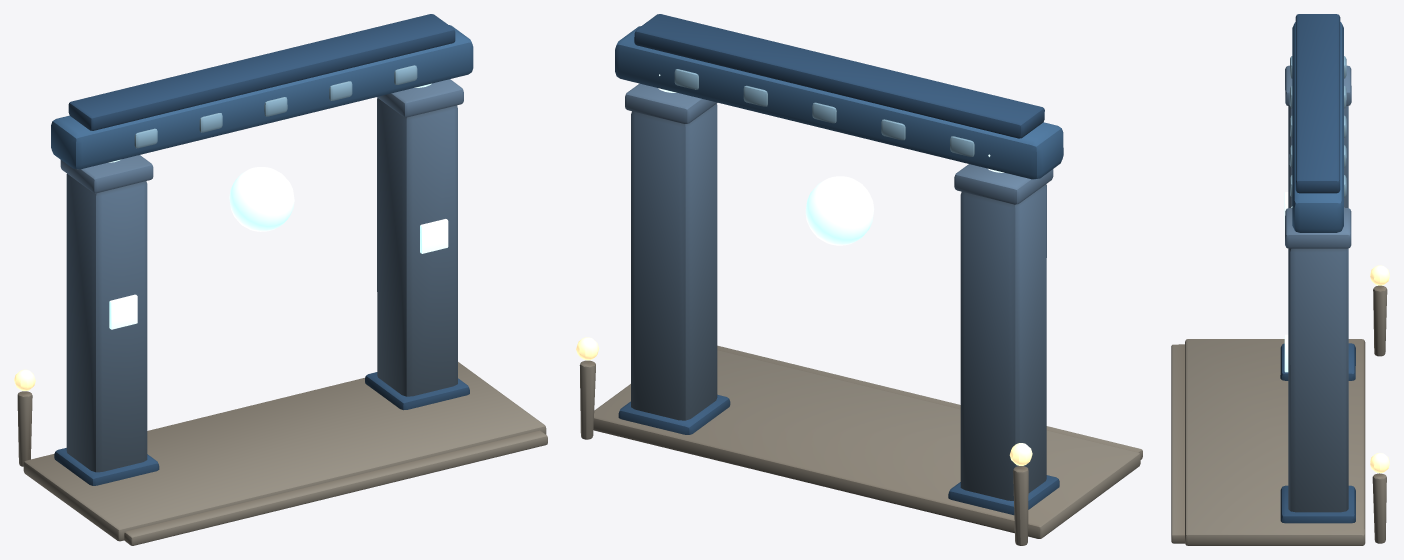
3 views of the same model, side by side, from view 1: azimuth 30°, elevation 25°; view 2: azimuth 150°, elevation 25°; view 3: azimuth 270°, elevation 25° (orthographic). The views are drawn at different scales.
Parts seen in each view (by area): view 1: gate_df62c722; view 2: gate_df62c722; view 3: gate_df62c722.
Boxes of the visible parts, left/top/right/bottom form: gate_df62c722: left=14, top=14, right=547, bottom=545; gate_df62c722: left=576, top=14, right=1142, bottom=545; gate_df62c722: left=1171, top=14, right=1389, bottom=545.
Bounding box in the file's own units: 5.43 × 4.53 × 2.55.
